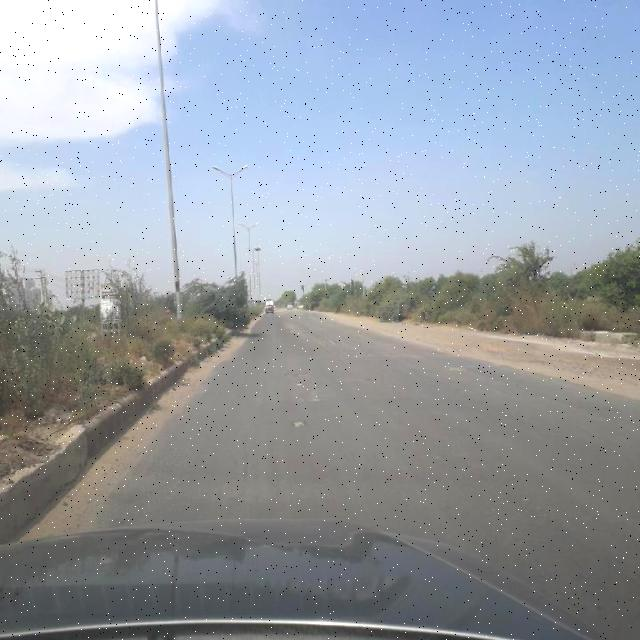D40: (290, 416, 308, 433)
